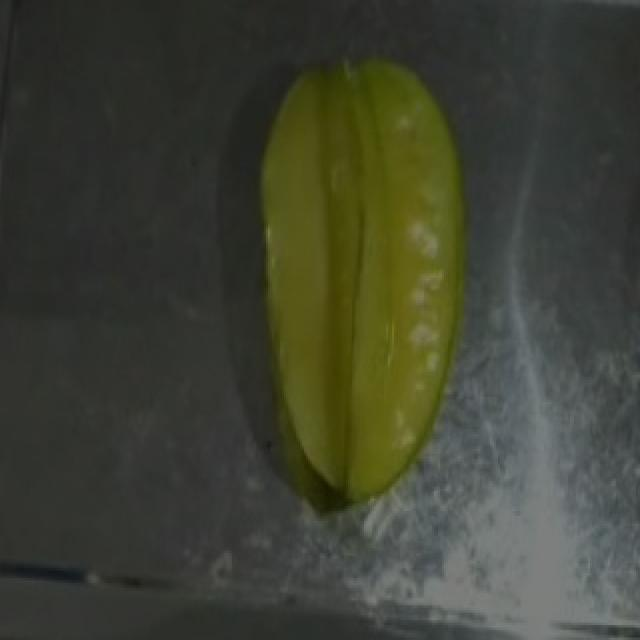fruit: (234, 40, 514, 444)
